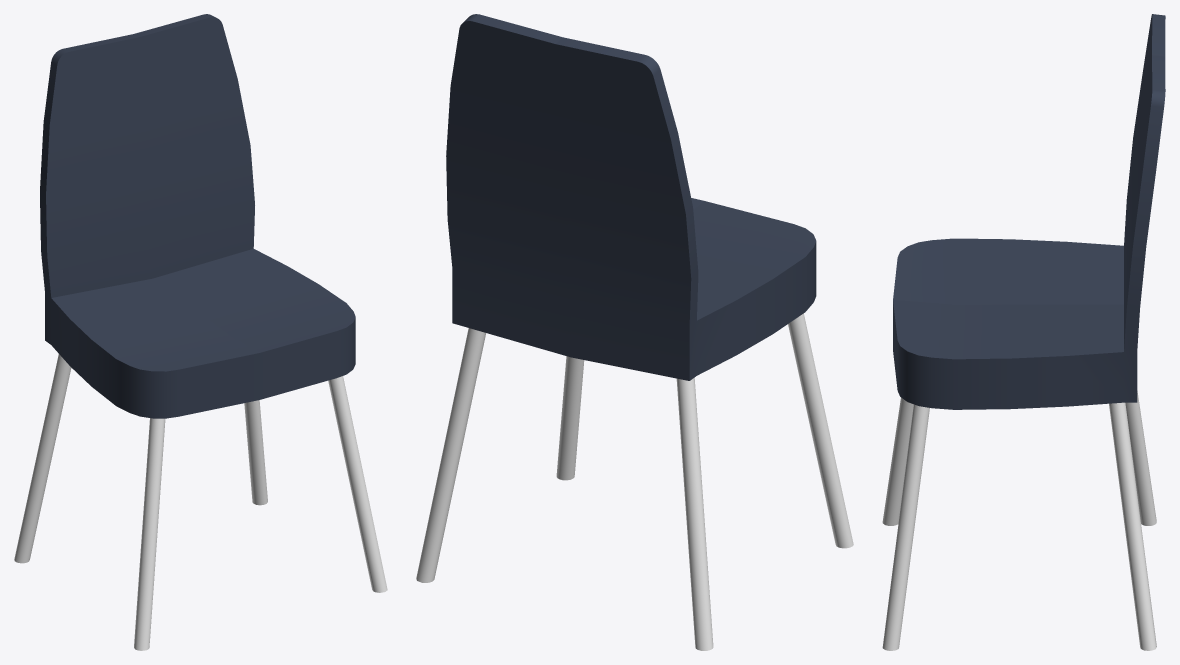
The model's file is cadeira port.fbx.
The picture shows the model from 3 angles, left to right: view 1: azimuth 30°, elevation 25°; view 2: azimuth 150°, elevation 25°; view 3: azimuth 270°, elevation 25°; orthographic projection. The views are drawn at different scales.
Parts seen in each view (by area): view 1: CADEIRA; view 2: CADEIRA; view 3: CADEIRA.
Boxes of the visible parts, <box> form: CADEIRA: <box>14,14,387,650</box>; CADEIRA: <box>416,14,853,650</box>; CADEIRA: <box>882,14,1165,650</box>.
Bounding box in the file's own units: 44.16 × 83.03 × 39.99.
